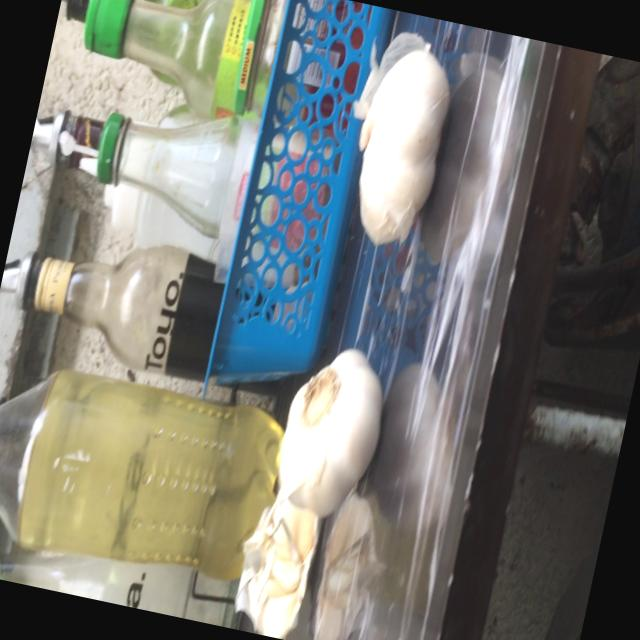bawang: (334, 34, 462, 258), (264, 332, 398, 526), (227, 486, 326, 640)
